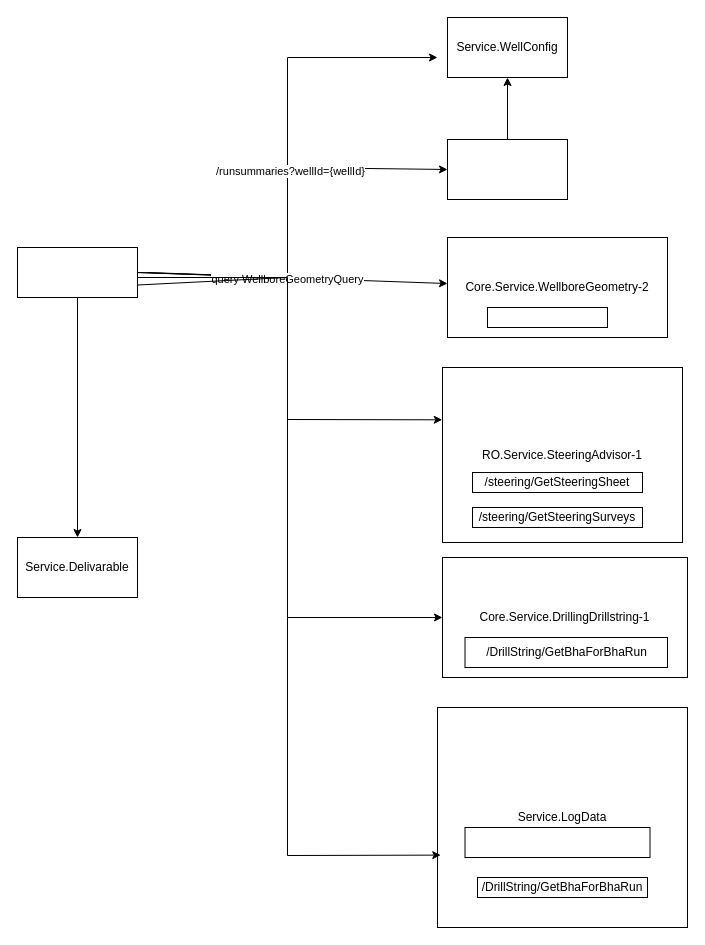
This 705x945 diagram has some shape labels left out. Each missing label, with the centre of its shape:
"/graphql" goes at point (547, 317).
"/trajectory/projectiontobit" goes at point (557, 842).
"Service.DdReport" goes at point (77, 272).
"Service.Package" goes at point (507, 169).
